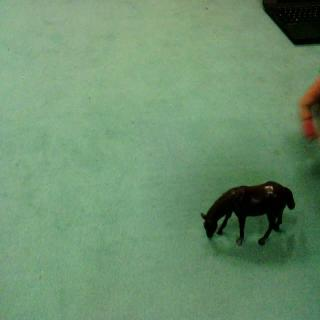horse: (198, 178, 298, 248)
